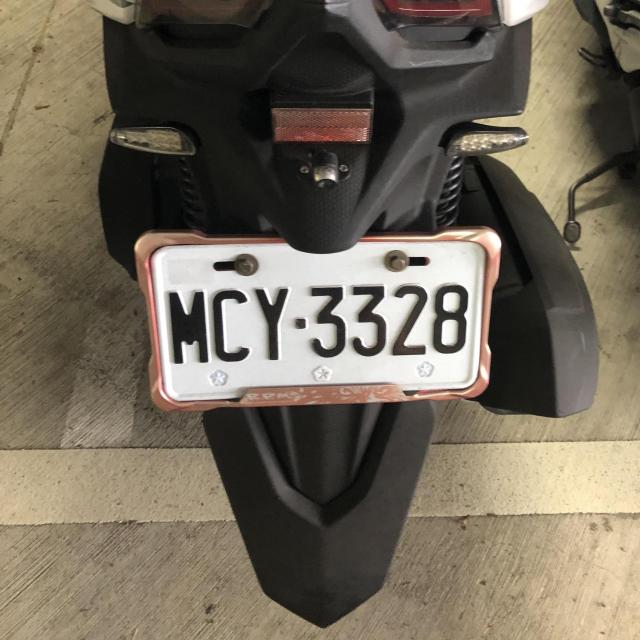W: (138, 226, 498, 407)
